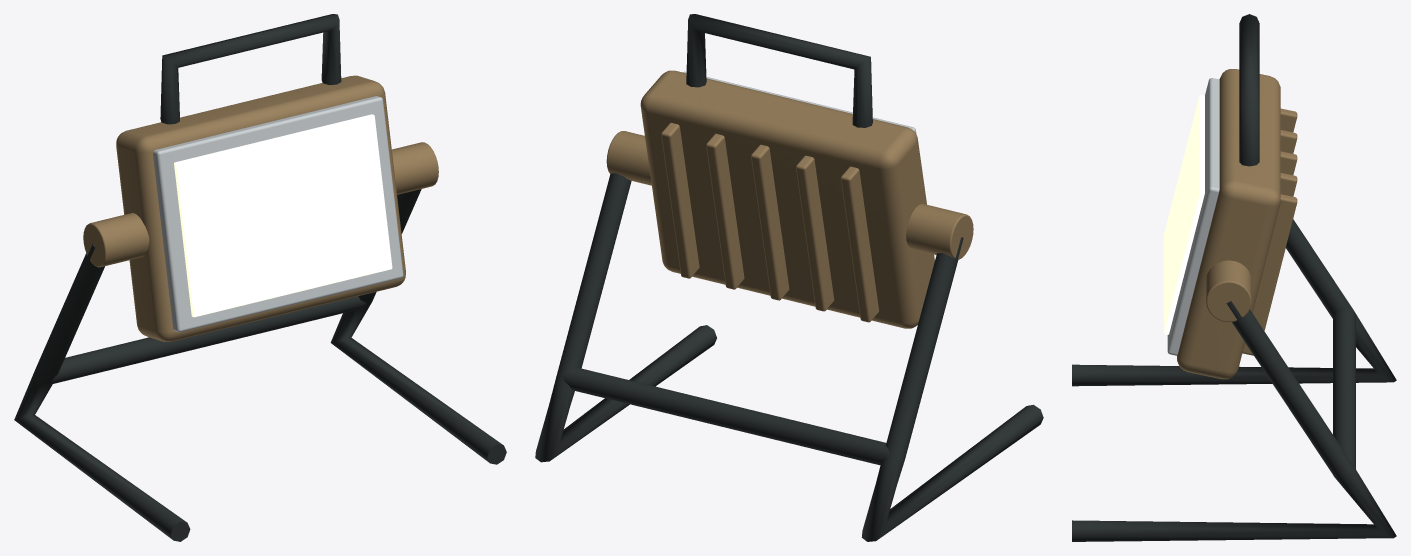
File: tripod-work-light.glb
3 views of the same model, side by side, from view 1: azimuth 30°, elevation 25°; view 2: azimuth 150°, elevation 25°; view 3: azimuth 270°, elevation 25° (orthographic). The views are drawn at different scales.
Visible parts, largest first — view 1: Work light | protected luminous lens, Work light | cast housing, Work light | reflector bezel, Work light | folding tubular foot, Work light | folding tubular foot.001, Work light | lower crossbar, Work light | carry handle, Work light | aiming knob, Work light | aiming knob.001; view 2: Work light | cast housing, Work light | folding tubular foot, Work light | folding tubular foot.001, Work light | lower crossbar, Work light | carry handle, Work light | rear heat-sink rib.003, Work light | rear heat-sink rib, Work light | rear heat-sink rib.004, Work light | rear heat-sink rib.001, Work light | rear heat-sink rib.002, Work light | aiming knob, Work light | aiming knob.001; view 3: Work light | cast housing, Work light | folding tubular foot.001, Work light | folding tubular foot, Work light | protected luminous lens, Work light | reflector bezel, Work light | lower crossbar, Work light | carry handle, Work light | aiming knob.001, Work light | rear heat-sink rib.004.
Boxes of the visible parts, box(x1,y1,x2,y2) form: Work light | protected luminous lens: box(174, 114, 392, 317); Work light | cast housing: box(116, 75, 405, 341); Work light | reflector bezel: box(153, 96, 403, 332); Work light | folding tubular foot: box(14, 243, 190, 541); Work light | folding tubular foot.001: box(330, 189, 506, 464); Work light | lower crossbar: box(50, 296, 366, 384); Work light | carry handle: box(160, 14, 341, 124); Work light | aiming knob: box(83, 213, 149, 267); Work light | aiming knob.001: box(392, 142, 438, 194); Work light | cast housing: box(640, 70, 934, 328); Work light | folding tubular foot: box(861, 237, 1043, 541); Work light | folding tubular foot.001: box(535, 173, 716, 462); Work light | lower crossbar: box(563, 368, 888, 465); Work light | carry handle: box(686, 14, 872, 127); Work light | rear heat-sink rib.003: box(706, 133, 744, 289); Work light | rear heat-sink rib: box(840, 166, 879, 322); Work light | rear heat-sink rib.004: box(661, 123, 699, 278); Work light | rear heat-sink rib.001: box(796, 155, 834, 311); Work light | rear heat-sink rib.002: box(751, 144, 789, 300); Work light | aiming knob: box(906, 204, 973, 259); Work light | aiming knob.001: box(606, 131, 651, 185); Work light | cast housing: box(1177, 69, 1280, 379); Work light | folding tubular foot.001: box(1072, 301, 1396, 541); Work light | folding tubular foot: box(1072, 219, 1396, 386); Work light | protected luminous lens: box(1163, 94, 1204, 334); Work light | reflector bezel: box(1167, 78, 1219, 355); Work light | lower crossbar: box(1333, 309, 1355, 468); Work light | carry handle: box(1239, 14, 1259, 166); Work light | aiming knob.001: box(1206, 260, 1251, 322); Work light | rear heat-sink rib.004: box(1242, 194, 1297, 355).
Bounding box in the file's own units: 0.342 × 0.3924 × 0.2838.
Materials: 4 (4 with a texture image).
